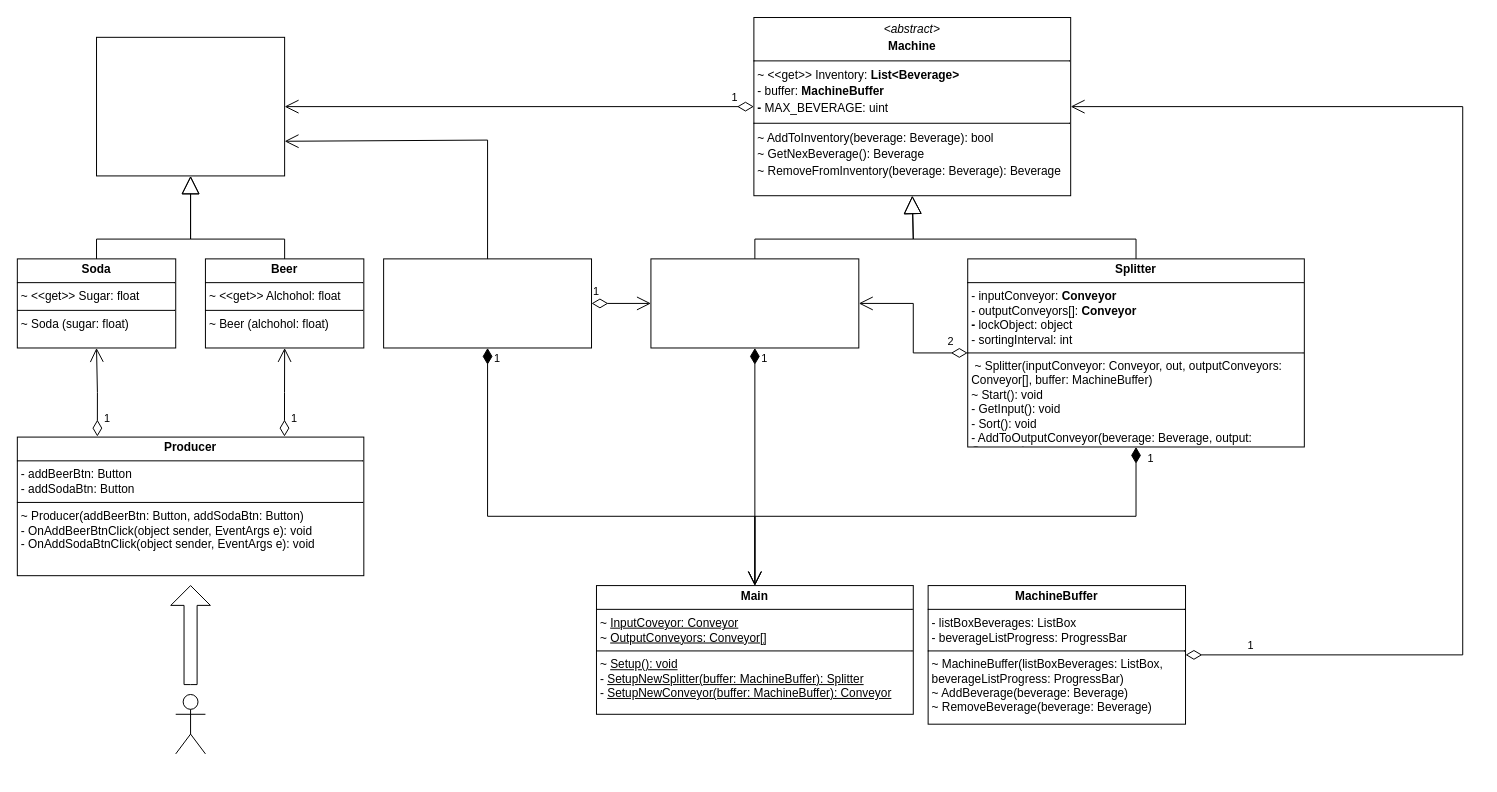
The diagram is 1497 pixels wide and 792 high, and some of its shapes have lost their labels. Here are the shapes that lost their labels. From the top down, the box of each, then its label:
(96, 36, 285, 176): <abstract> Beverage ~ <<get>> Name: string # Beverage (name: string)
(383, 258, 592, 348): Consumer ~ Consume(conveyor: Conveyor): void
(650, 258, 859, 348): Conveyor ~ Conveyor(buffer: MachineBuffer)
(175, 693, 205, 754): User
